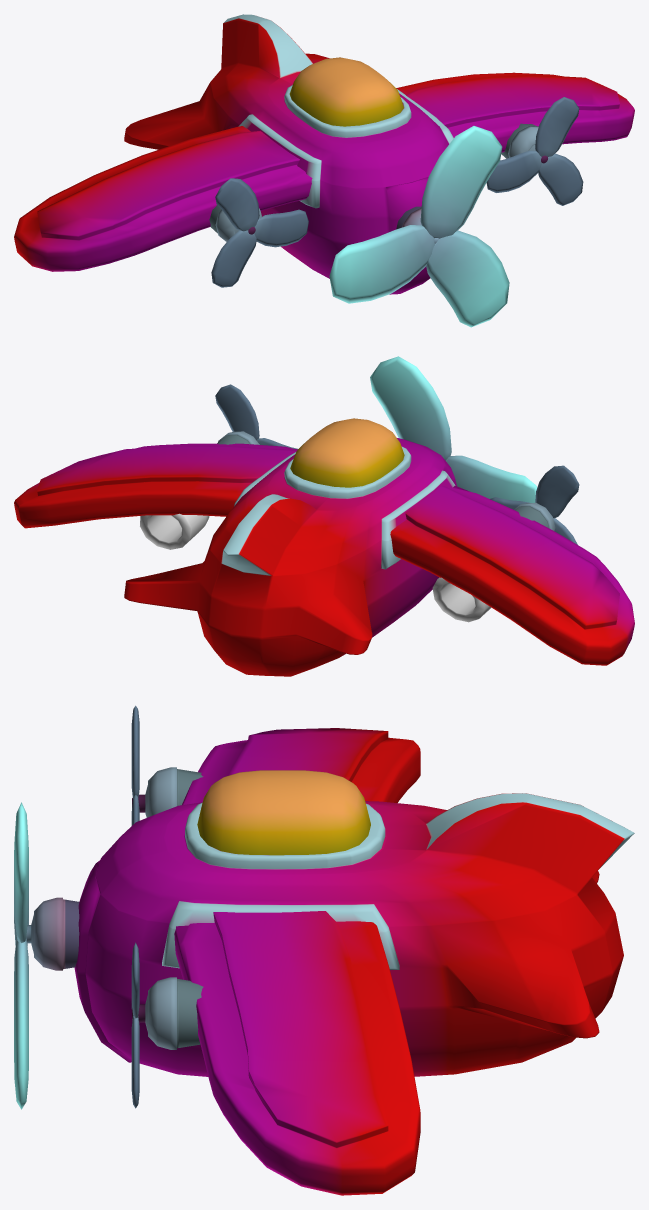
Rendered from самолет 5.fbx.
The picture shows the model from 3 angles, top to bottom: view 1: azimuth 30°, elevation 25°; view 2: azimuth 150°, elevation 25°; view 3: azimuth 270°, elevation 25°; orthographic projection. The views are drawn at different scales.
Parts seen in each view (by area): view 1: Cube.019, Cube.020, Cube.017, Cube.016, Cube.001, Cube.018, Cylinder.015; view 2: Cube.020, Cube.019, Cube.017, Cube.016, Cylinder.013, Cube.001, Cube.018, Cylinder.015; view 3: Cube.020, Cube.019, Cube.016, Cylinder.015, Cube.017, Cylinder.014, Cube.018, Cube.001.
Boxes of the visible parts, box(x1,y1,x2,y2) form: Cube.019: box(14, 72, 634, 271); Cube.020: box(124, 14, 453, 294); Cube.017: box(329, 126, 509, 327); Cube.016: box(289, 57, 403, 126); Cube.001: box(211, 178, 308, 287); Cube.018: box(486, 97, 583, 205); Cylinder.015: box(209, 123, 547, 241); Cube.020: box(124, 438, 456, 676); Cube.019: box(14, 443, 634, 665); Cube.017: box(370, 356, 537, 502); Cube.016: box(290, 418, 404, 487); Cylinder.013: box(140, 513, 491, 622); Cube.001: box(490, 465, 579, 544); Cube.018: box(215, 384, 297, 449); Cylinder.015: box(217, 431, 555, 531); Cube.020: box(74, 793, 634, 1076); Cube.019: box(174, 728, 420, 1195); Cube.016: box(197, 770, 370, 855); Cylinder.015: box(132, 767, 203, 1049); Cube.017: box(14, 802, 28, 1109); Cylinder.014: box(26, 897, 79, 970); Cube.018: box(131, 942, 139, 1108); Cube.001: box(131, 705, 139, 825).
Bounding box in the file's own units: 642 × 205 × 391.
